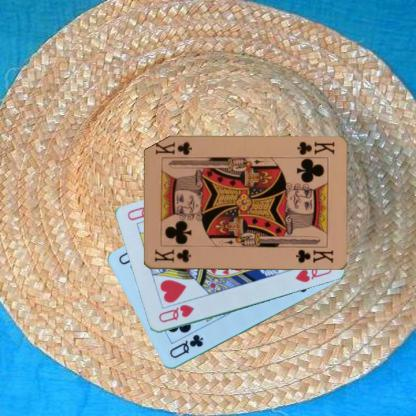Kc: (294, 139, 336, 157), (152, 247, 192, 264)
Qc: (166, 332, 204, 360)
Qh: (156, 302, 196, 324)
